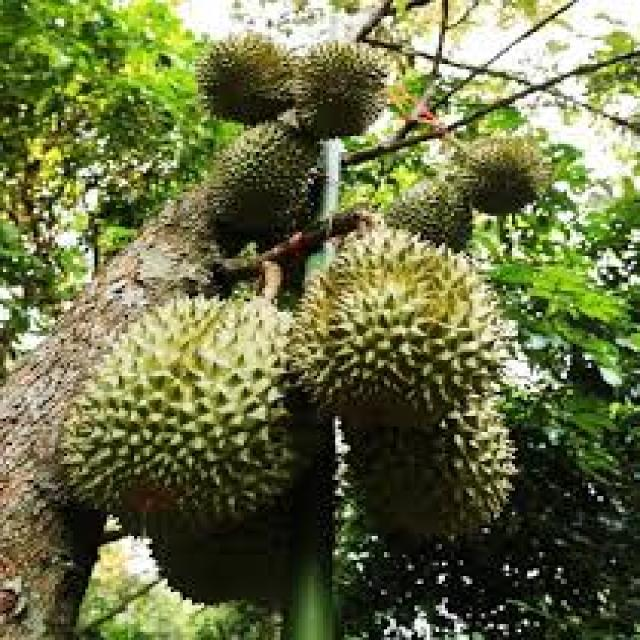immature: (58, 292, 310, 542), (208, 116, 321, 225), (193, 33, 300, 128), (293, 39, 391, 141)
mature: (294, 222, 509, 433), (340, 399, 520, 552)
